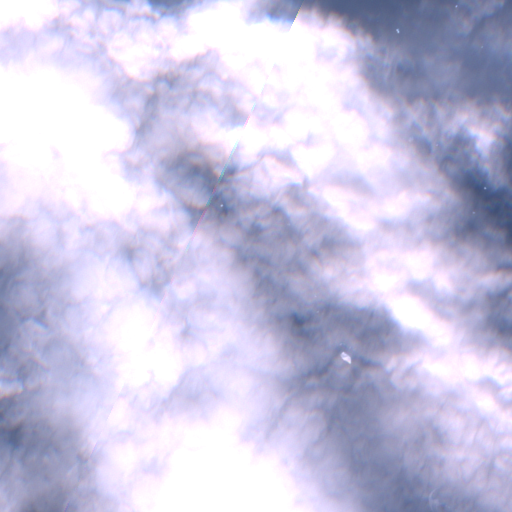Iceberg: (340, 352, 351, 363), (396, 28, 399, 33), (455, 5, 457, 7), (484, 187, 486, 189), (220, 204, 222, 206), (473, 212, 474, 213)
